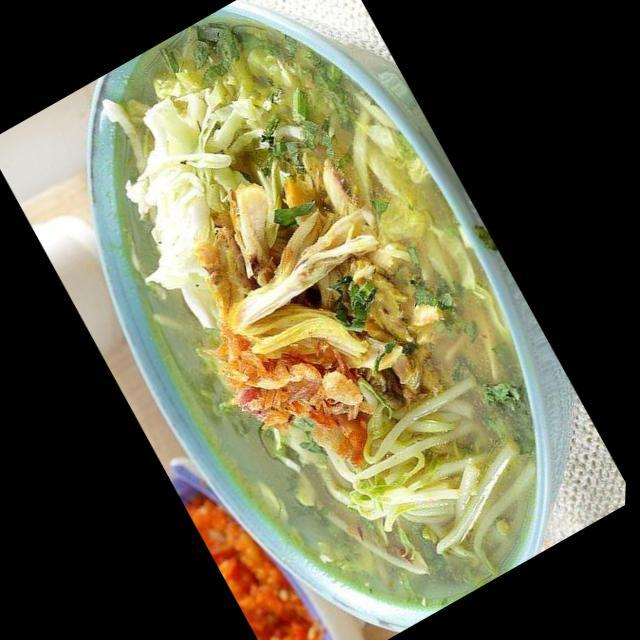Soto: (98, 17, 539, 612)
